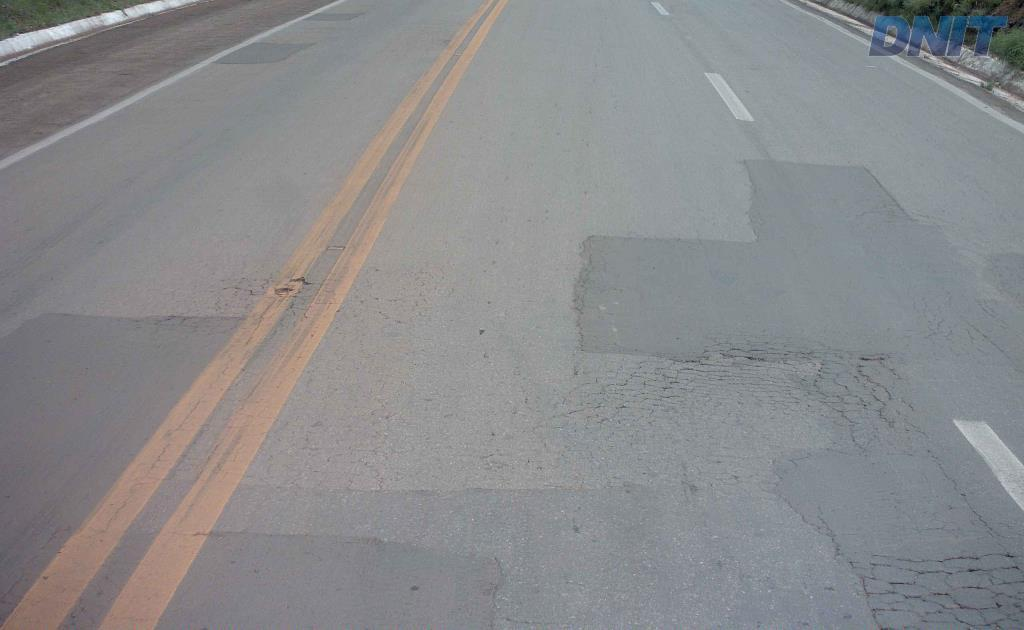crack: (930, 585, 1023, 629), (853, 362, 896, 430), (799, 363, 850, 407), (719, 346, 780, 362)
